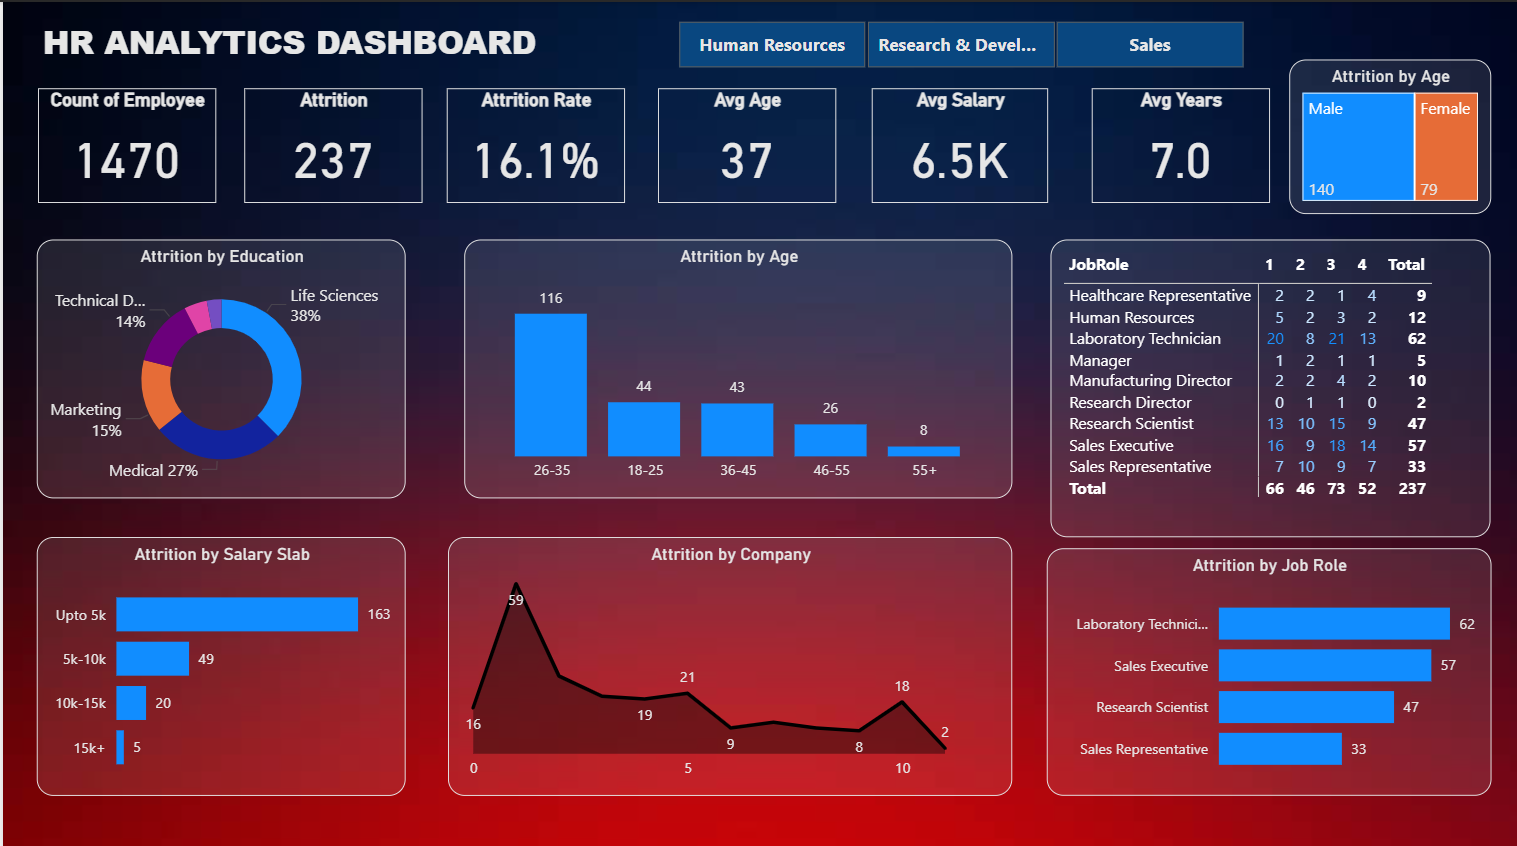

What the dashboard file says about the page in this screenshot:
{"tool":"powerbi","page":{"name":"Page 1","canvas":[1280,720],"ordinal":0},"visuals":[{"type":"card","title":"Count of Employee","fields":{"Values":["CountNonNull(HR_Analytics.EmpID)"]},"box":[29.1,73.3,150,96.5],"z":0},{"type":"card","title":"Avg Age","fields":{"Values":["Avg(HR_Analytics.Age)"]},"box":[552.3,73.3,150,96.5],"z":1000},{"type":"card","title":"Attrition Rate","fields":{"Values":["HR_Analytics.AttritionRate"]},"box":[374.4,73.3,150,96.5],"z":2000},{"type":"card","title":"Attrition","fields":{"Values":["Sum(HR_Analytics.AttritionCount)"]},"box":[203.5,73.3,150,96.5],"z":3000},{"type":"card","title":"Avg Years","fields":{"Values":["Avg(HR_Analytics.YearsAtCompany)"]},"box":[918.6,73.3,150,96.5],"z":4000},{"type":"card","title":"Avg Salary","fields":{"Values":["Avg(HR_Analytics.MonthlyIncome)"]},"box":[732.6,73.3,148.8,96.5],"z":5000},{"type":"donutChart","title":"Attrition by Education","fields":{"Category":["HR_Analytics.EducationField"],"Y":["Sum(HR_Analytics.AttritionCount)"]},"box":[28.8,200,311.2,218.8],"z":6000},{"type":"columnChart","title":"Attrition by Age","fields":{"Category":["HR_Analytics.AgeGroup"],"Y":["Sum(HR_Analytics.AttritionCount)"]},"box":[388.8,200,462.5,218.8],"z":7000},{"type":"pivotTable","fields":{"Rows":["HR_Analytics.JobRole"],"Columns":["HR_Analytics.JobSatisfaction"],"Values":["Sum(HR_Analytics.AttritionCount)"]},"box":[883.8,200,371.2,251.2],"z":8000},{"type":"barChart","title":"Attrition by Salary Slab","fields":{"Category":["HR_Analytics.SalarySlab"],"Y":["Sum(HR_Analytics.AttritionCount)"]},"box":[28.8,451.2,311.2,218.8],"z":9000},{"type":"barChart","title":"Attrition by Job Role","fields":{"Category":["HR_Analytics.JobRole"],"Y":["Sum(HR_Analytics.AttritionCount)"]},"box":[880,461.2,375,208.8],"z":10000},{"type":"areaChart","title":"Attrition by Company","fields":{"Category":["HR_Analytics.YearsAtCompany"],"Y":["Sum(HR_Analytics.AttritionCount)"]},"box":[375,451.2,476.2,218.8],"z":11000},{"type":"treemap","title":"Attrition by Age","fields":{"Group":["HR_Analytics.Gender"],"Values":["Sum(HR_Analytics.AttritionCount)"]},"box":[1085,48.8,170,130],"z":12000},{"type":"slicer","fields":{"Values":["HR_Analytics.Department"]},"box":[543.8,10,526.2,52.5],"z":13000},{"type":"textbox","box":[28.8,10,496.2,52.5],"z":14000}]}

Visuals, with their boxes in screenshot pixels (x1, y1, x2, y2), scaled from the page's 1280x720 canvas onto the 1517x846 screenshot:
"Count of Employee" card: {"left": 34, "top": 86, "right": 212, "bottom": 200}
"Avg Age" card: {"left": 655, "top": 86, "right": 832, "bottom": 200}
"Attrition Rate" card: {"left": 444, "top": 86, "right": 621, "bottom": 200}
"Attrition" card: {"left": 241, "top": 86, "right": 419, "bottom": 200}
"Avg Years" card: {"left": 1089, "top": 86, "right": 1266, "bottom": 200}
"Avg Salary" card: {"left": 868, "top": 86, "right": 1045, "bottom": 200}
"Attrition by Education" donutChart: {"left": 34, "top": 235, "right": 403, "bottom": 492}
"Attrition by Age" columnChart: {"left": 461, "top": 235, "right": 1009, "bottom": 492}
pivotTable - HR_Analytics.JobRole x HR_Analytics.JobSatisfaction: {"left": 1047, "top": 235, "right": 1487, "bottom": 530}
"Attrition by Salary Slab" barChart: {"left": 34, "top": 530, "right": 403, "bottom": 787}
"Attrition by Job Role" barChart: {"left": 1043, "top": 542, "right": 1487, "bottom": 787}
"Attrition by Company" areaChart: {"left": 444, "top": 530, "right": 1009, "bottom": 787}
"Attrition by Age" treemap: {"left": 1286, "top": 57, "right": 1487, "bottom": 210}
slicer - HR_Analytics.Department: {"left": 644, "top": 12, "right": 1268, "bottom": 73}
textbox: {"left": 34, "top": 12, "right": 622, "bottom": 73}
